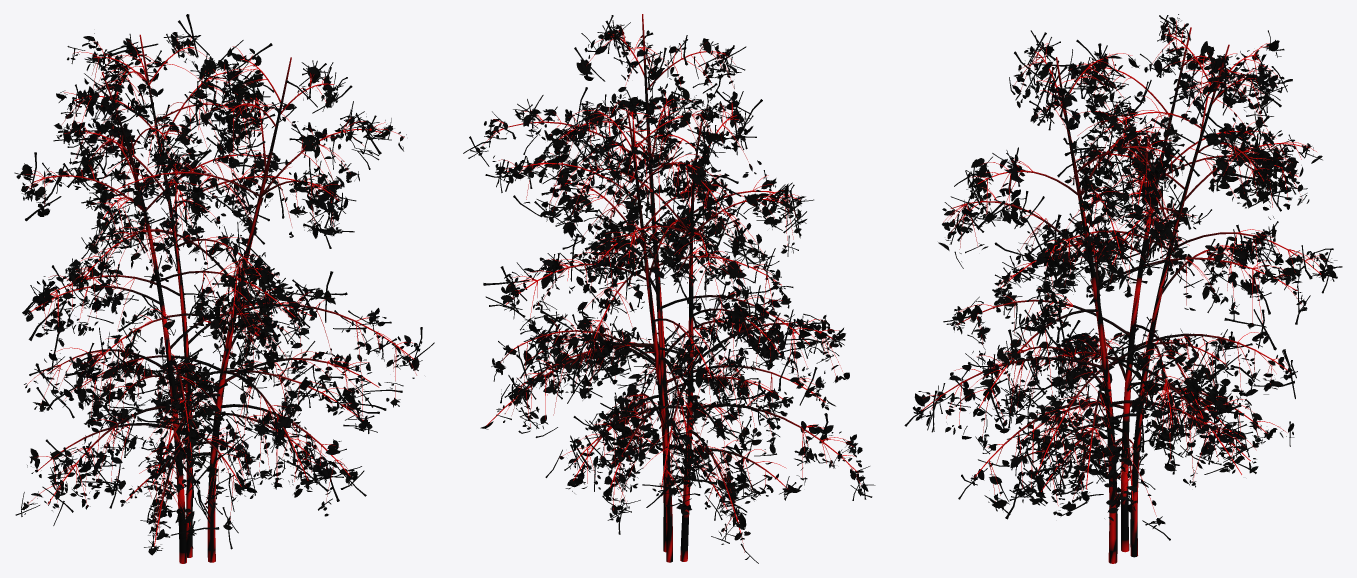
Rendered from SM_BroadleafYoung_02.fbx.
3 views of the same model, side by side, from view 1: azimuth 30°, elevation 25°; view 2: azimuth 150°, elevation 25°; view 3: azimuth 270°, elevation 25° (orthographic). The views are drawn at different scales.
Parts seen in each view (by area): view 1: SM_BroadleafYoung_02; view 2: SM_BroadleafYoung_02; view 3: SM_BroadleafYoung_02.
Boxes of the visible parts, box(x1,y1,x2,y2) form: SM_BroadleafYoung_02: box(14, 14, 434, 563); SM_BroadleafYoung_02: box(463, 14, 875, 563); SM_BroadleafYoung_02: box(904, 14, 1342, 563).
Size of what is drawn, in the model's own units: 773 by 718 by 960.
